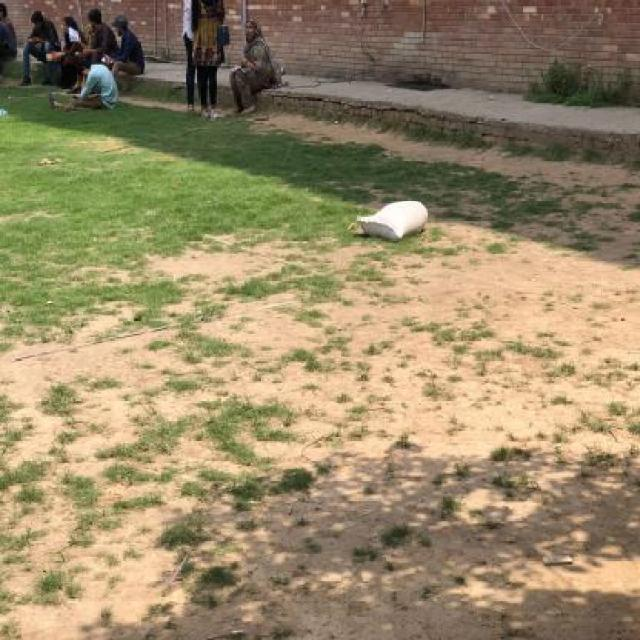garbage: (345, 180, 447, 258), (542, 551, 586, 584)
